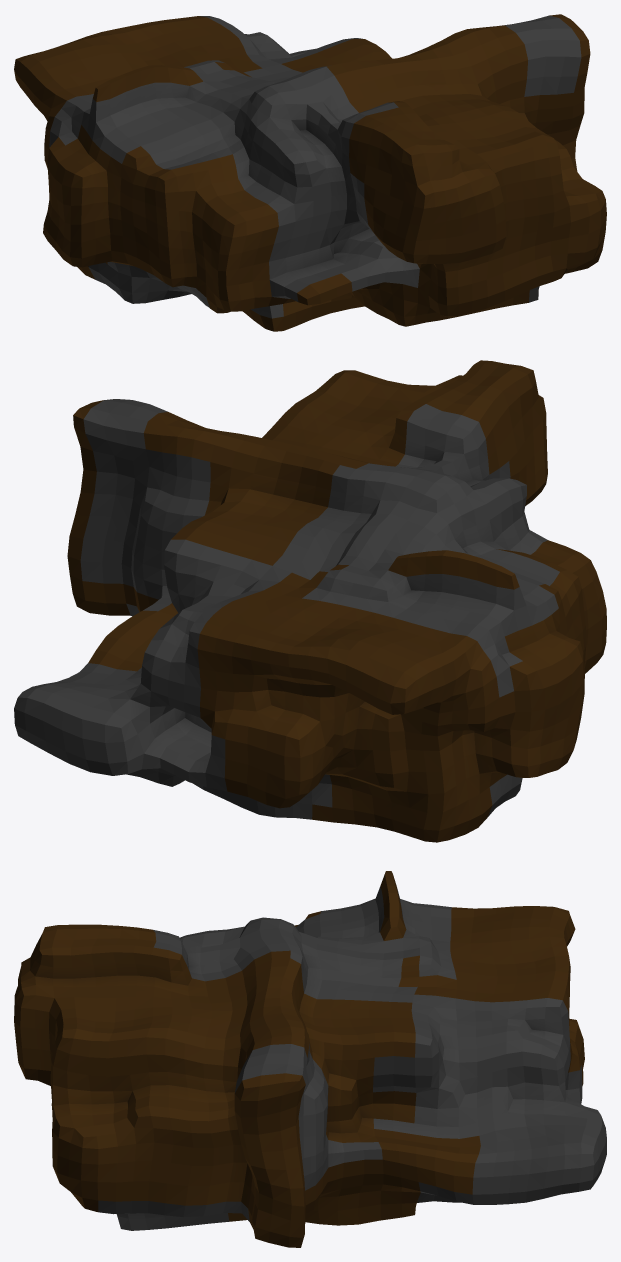
Rendered from MetalScrap.glb.
3 views of the same model, one above another, from view 1: azimuth 30°, elevation 25°; view 2: azimuth 150°, elevation 25°; view 3: azimuth 270°, elevation 25° (orthographic). The views are drawn at different scales.
Parts seen in each view (by area): view 1: __playground; view 2: __playground; view 3: __playground.
Part boxes in pixels (x1,y1,x2,y2): __playground: (14,14,606,331); __playground: (14,360,606,842); __playground: (14,871,606,1247).
Size of the model in its own units: 0.7431 by 0.3826 by 0.7842.
